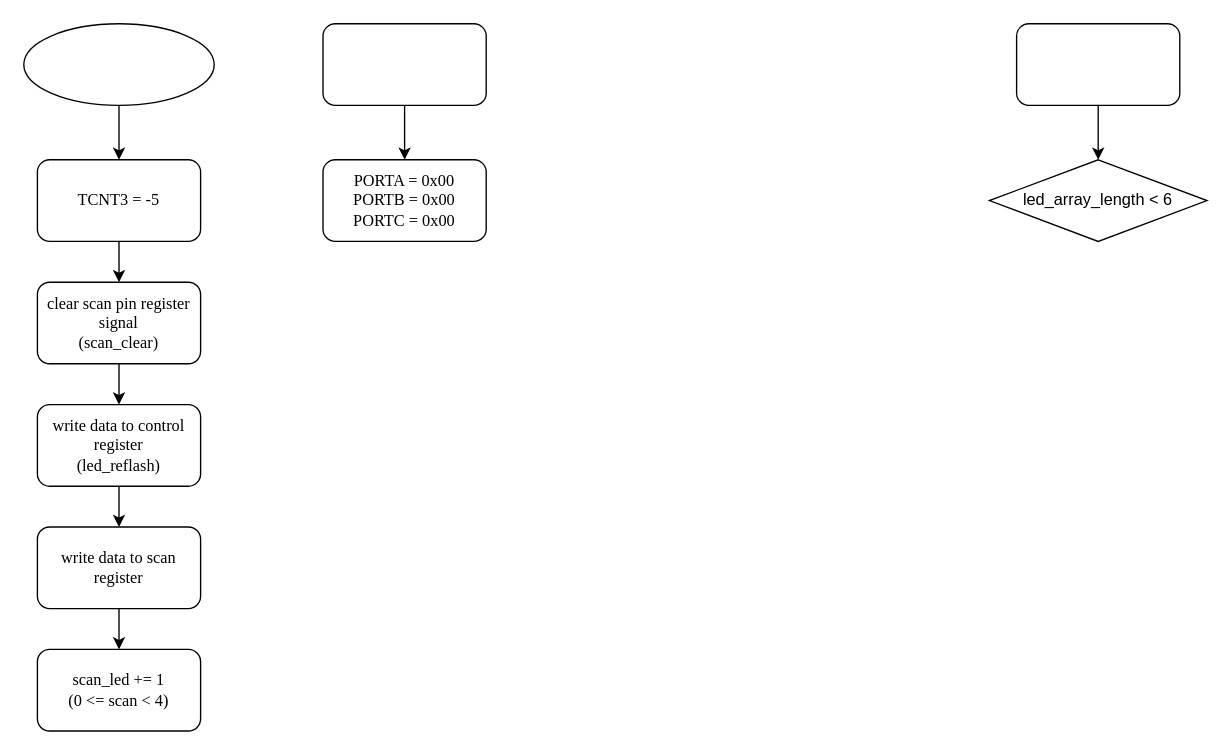
This 1231x755 diagram has some shape labels left out. The centre of each missing label's shape, as x and y in pixels:
ISR(TIMER3_OVF_vect): the point at 118,63
led_reflash(): the point at 1097,63
scan_clear(): the point at 404,63
